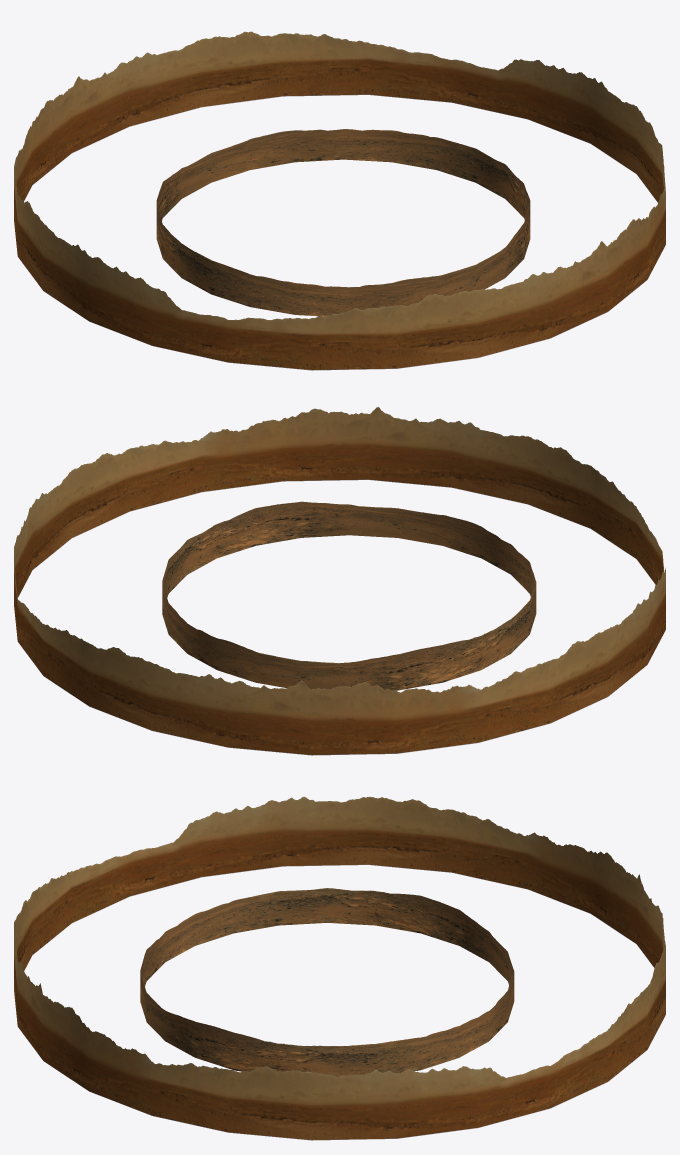
Rendered from backdrop.dae.
3 renders of one model, top to bottom at view 1: azimuth 30°, elevation 25°; view 2: azimuth 150°, elevation 25°; view 3: azimuth 270°, elevation 25°, orthographic.
Parts seen in each view (by area): view 1: mountains, hills; view 2: mountains, hills; view 3: mountains, hills.
Part boxes in pixels (left/top/right/bottom): mountains: left=14, top=31, right=665, bottom=370; hills: left=156, top=129, right=530, bottom=316; mountains: left=14, top=407, right=665, bottom=755; hills: left=162, top=501, right=536, bottom=690; mountains: left=14, top=796, right=665, bottom=1140; hills: left=140, top=888, right=514, bottom=1076.
Bounding box in the file's own units: 864 × 864 × 119.
2 materials, 2 textured.
